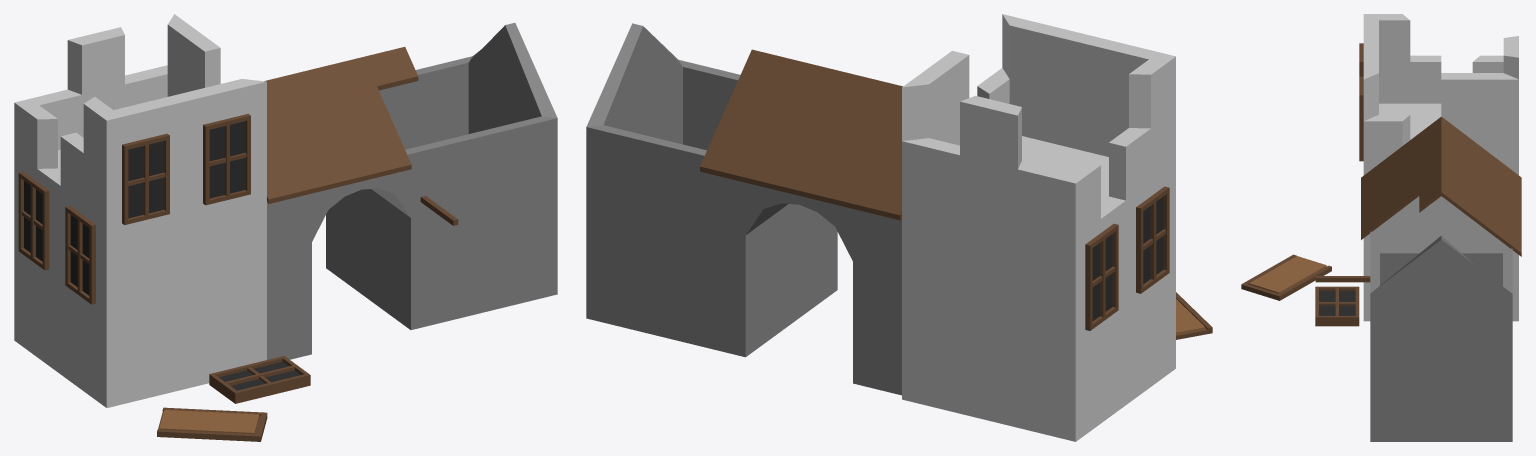
Rendered from GunShop_build_mat.fbx.
The picture shows the model from 3 angles, left to right: view 1: azimuth 30°, elevation 25°; view 2: azimuth 150°, elevation 25°; view 3: azimuth 270°, elevation 25°; orthographic projection. The views are drawn at different scales.
Visible parts, largest first — view 1: GunShop_build_mat; view 2: GunShop_build_mat; view 3: GunShop_build_mat.
Boxes of the visible parts, <box> form: GunShop_build_mat: <box>14,14,557,441</box>; GunShop_build_mat: <box>586,14,1212,441</box>; GunShop_build_mat: <box>1241,14,1521,441</box>.
Size of the model in its own units: 526 by 315 by 331.
